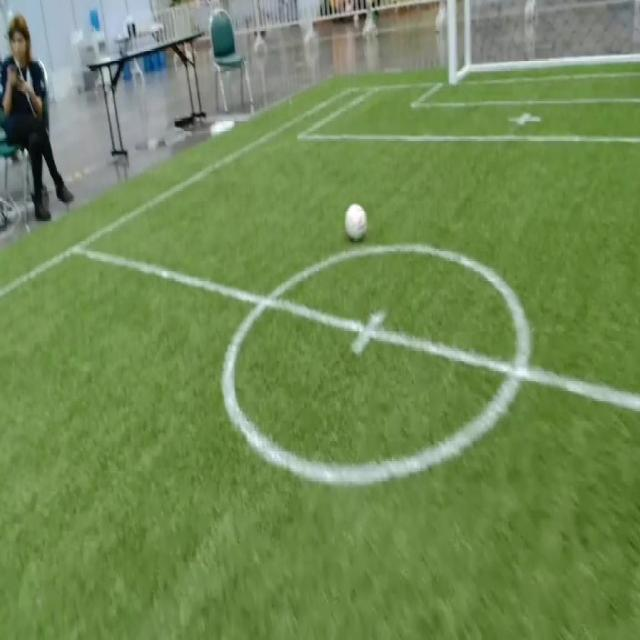ball: (346, 203, 366, 240)
goalpost: (447, 50, 460, 87)
